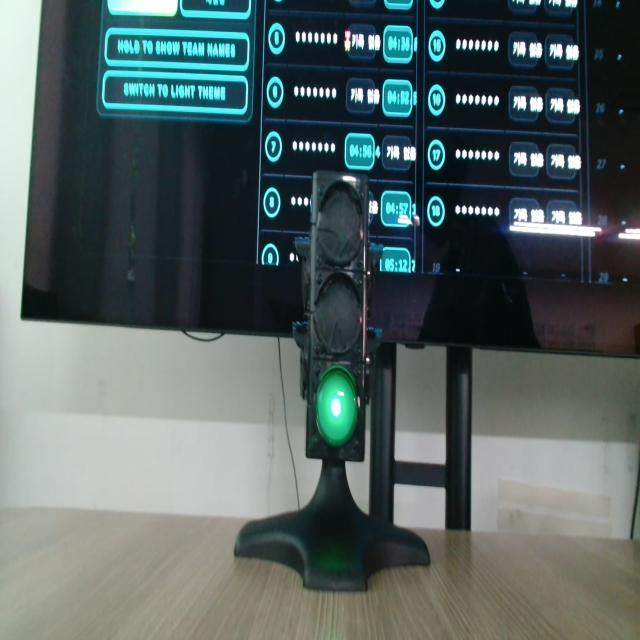green_light: (316, 367, 357, 446)
